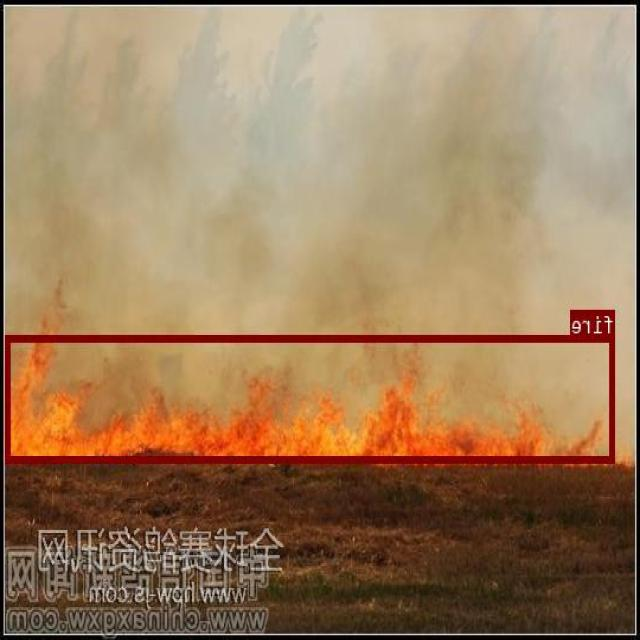fire: (7, 334, 616, 461)
